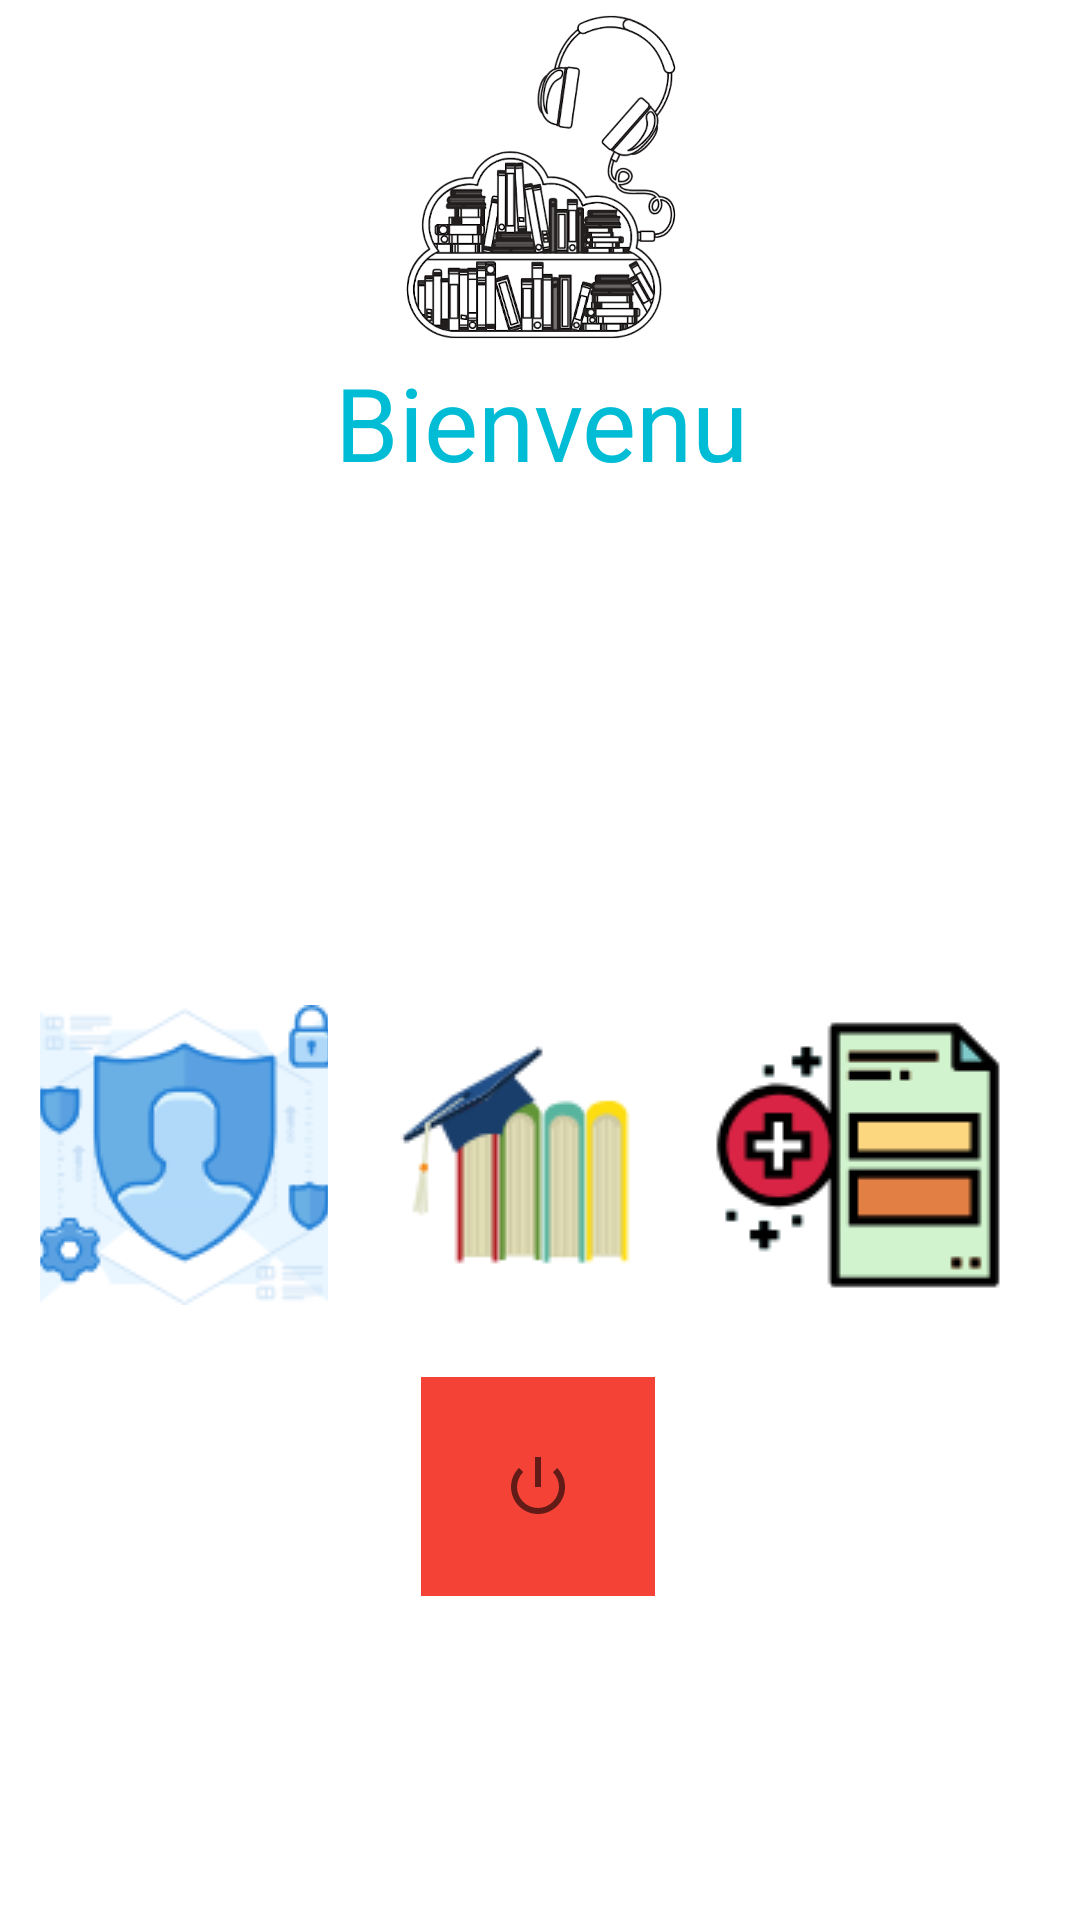

Named icons in this screenshot (1080*1920) and their centers, (x=x, y=y):
ajout emprunt: (x=858, y=1155)
comptes: (x=184, y=1155)
livres: (x=516, y=1155)
lock power off: (x=538, y=1486)
